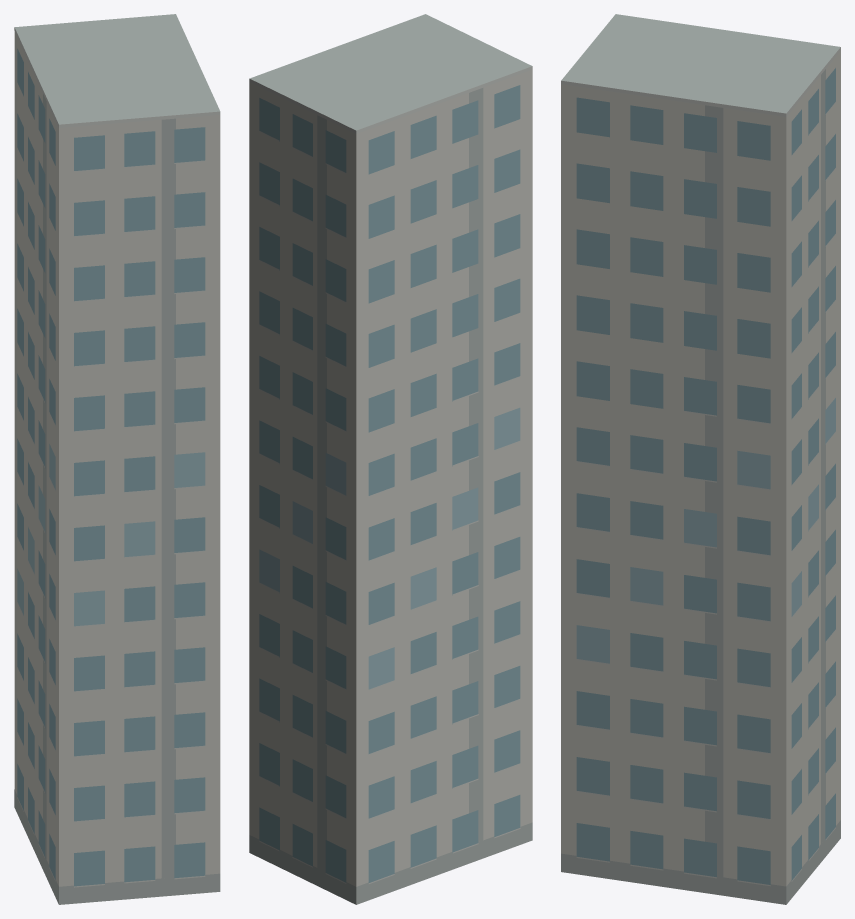
The model's file is residential-217dd9d4-59b9-43f2-b28c-eeac590e1ed2.glb.
The picture shows the model from 3 angles, left to right: view 1: azimuth 30°, elevation 25°; view 2: azimuth 150°, elevation 25°; view 3: azimuth 270°, elevation 25°; orthographic projection. The views are drawn at different scales.
Visible parts, largest first — view 1: residential-217dd9d4-59b9-43f2-b28c-eeac590e1ed2.tmp; view 2: residential-217dd9d4-59b9-43f2-b28c-eeac590e1ed2.tmp; view 3: residential-217dd9d4-59b9-43f2-b28c-eeac590e1ed2.tmp.
Part boxes in pixels (x1,y1,x2,y2): residential-217dd9d4-59b9-43f2-b28c-eeac590e1ed2.tmp: (14,14,220,904); residential-217dd9d4-59b9-43f2-b28c-eeac590e1ed2.tmp: (249,14,532,904); residential-217dd9d4-59b9-43f2-b28c-eeac590e1ed2.tmp: (561,14,840,904).
Size of the model in its own units: 14.58 by 54 by 17.31.
